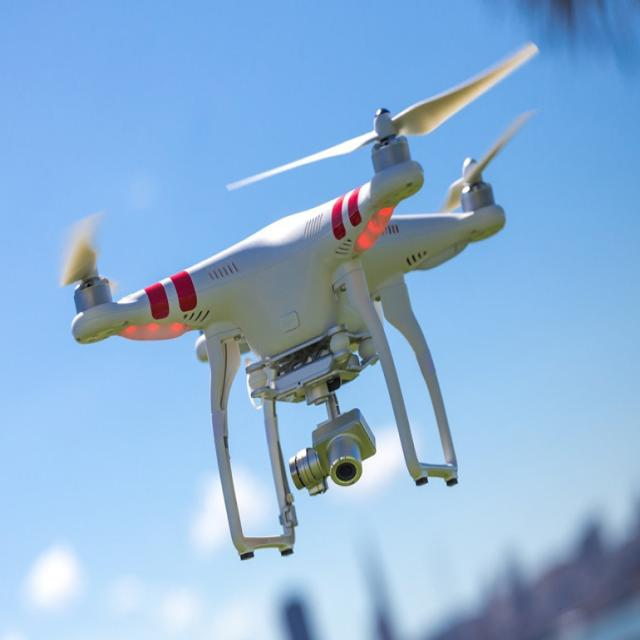drone: (58, 40, 542, 562)
